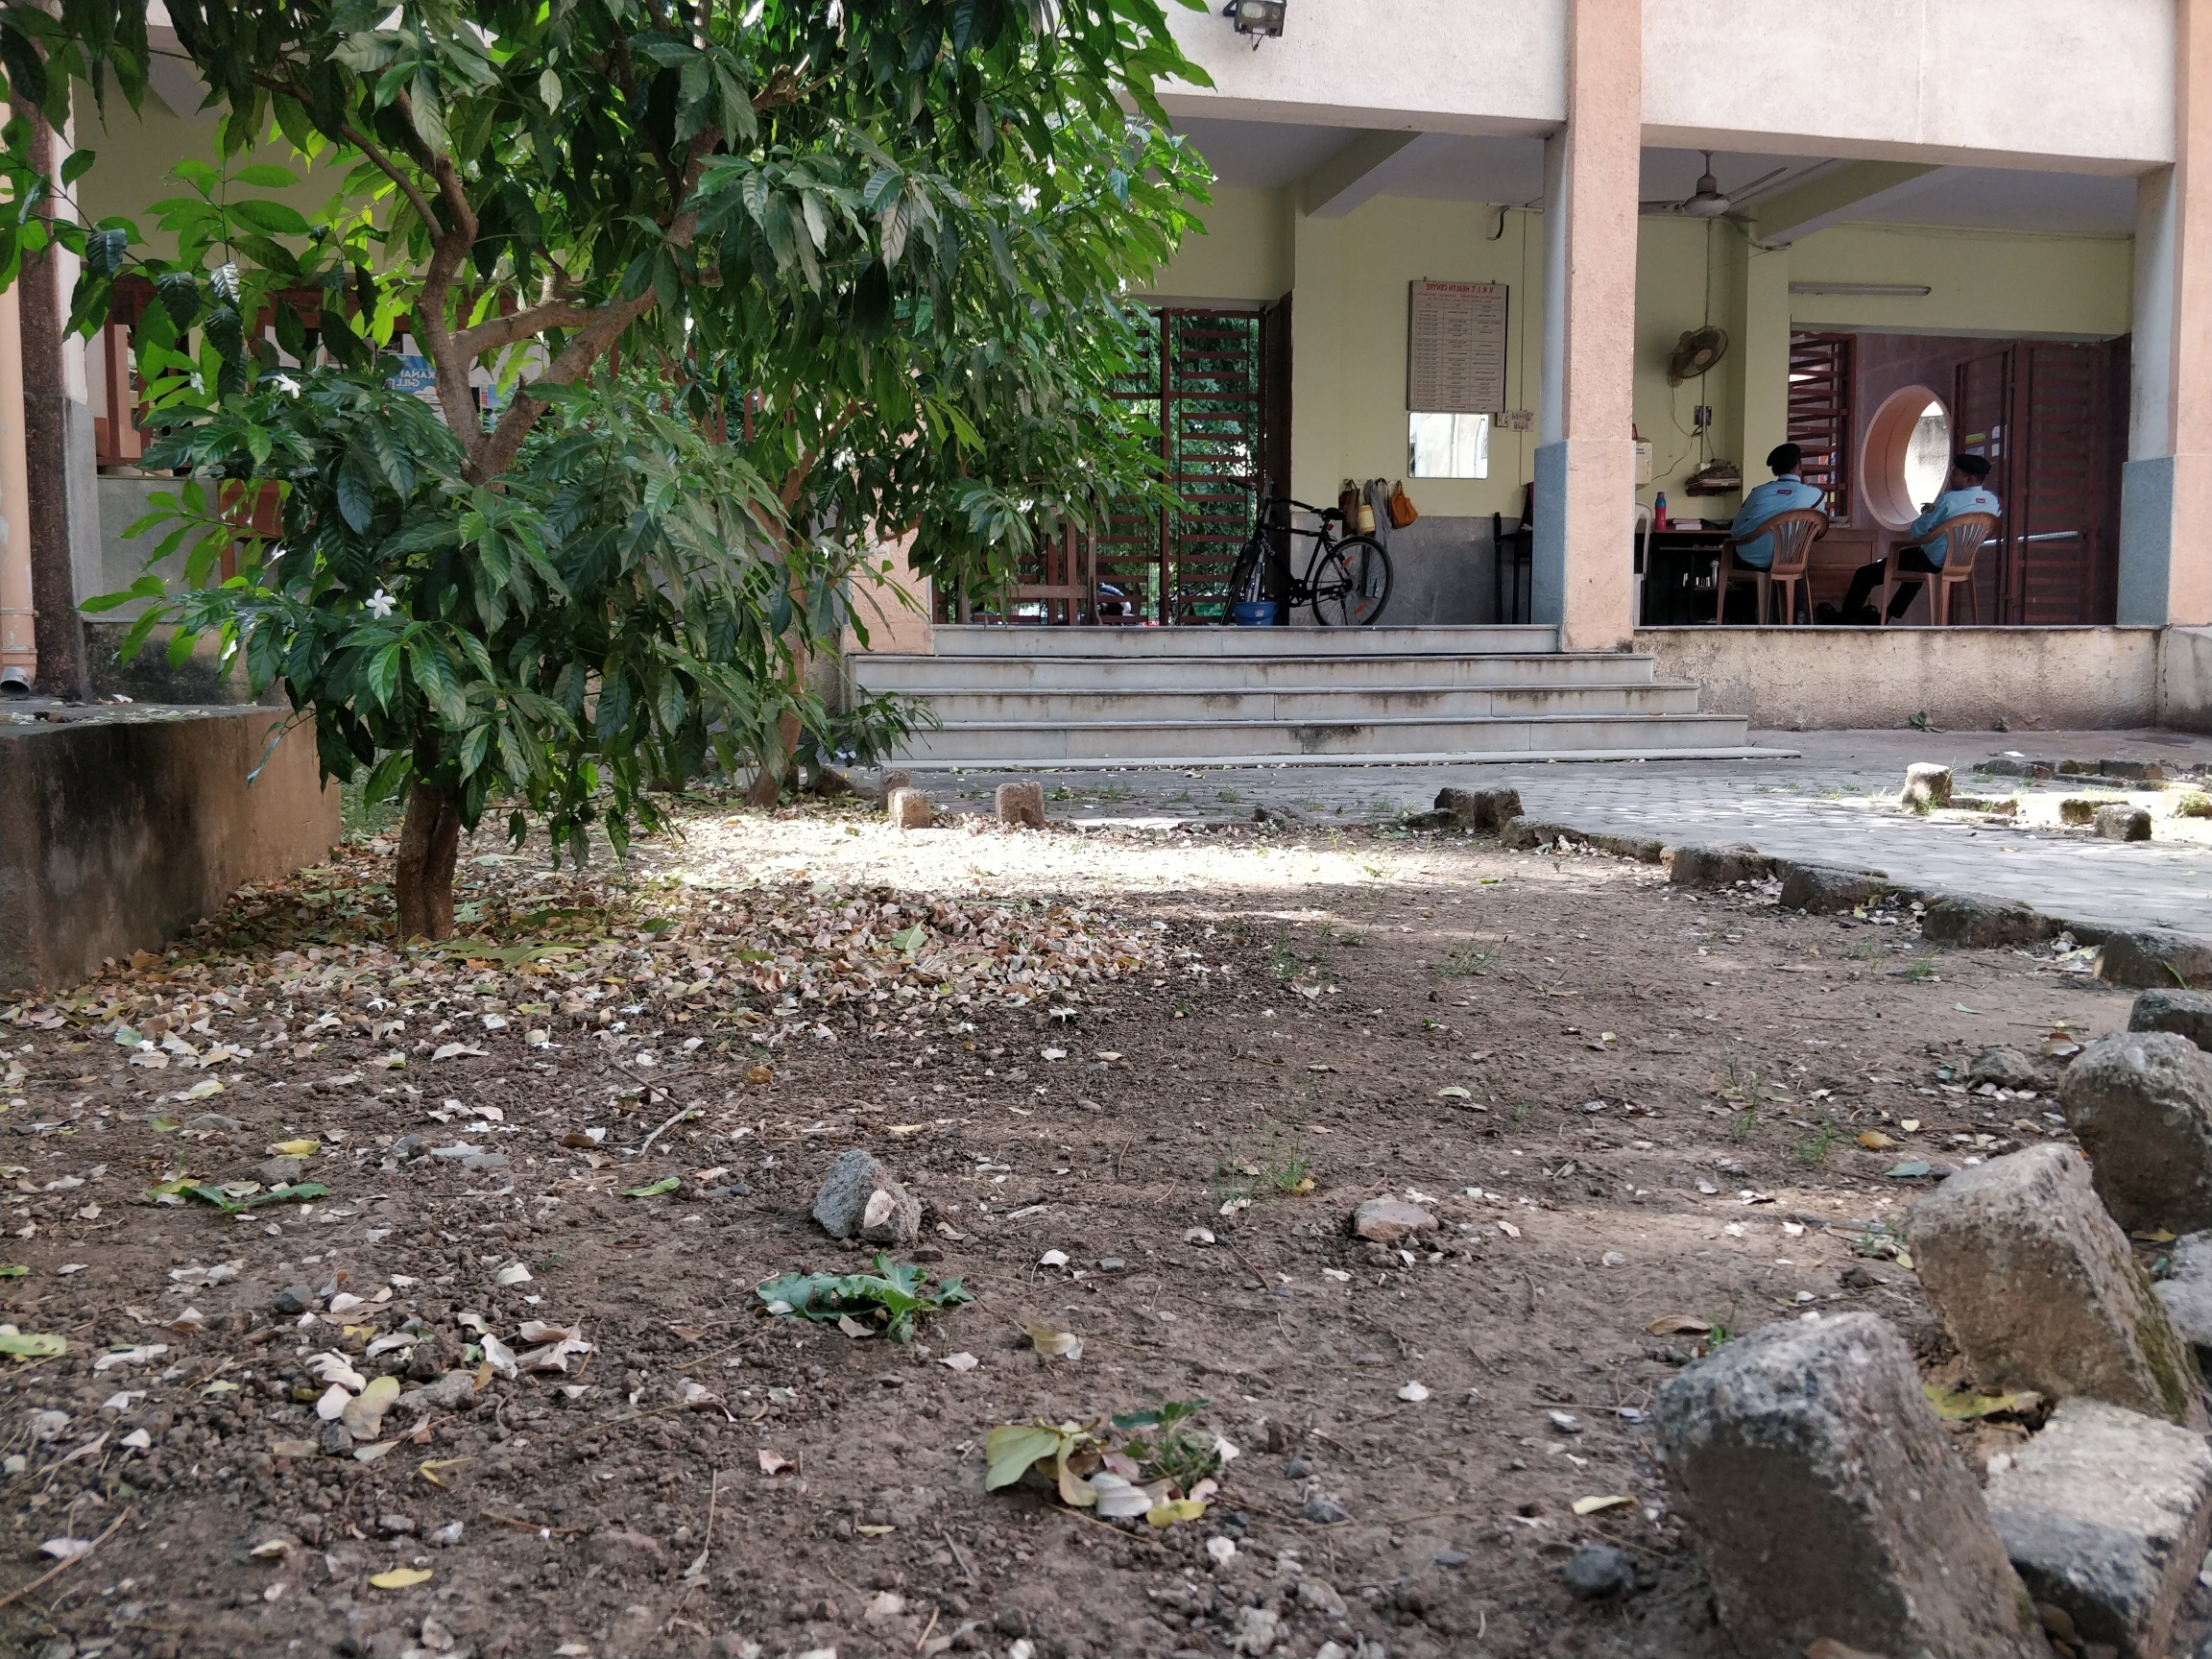stairs_up: (838, 615, 1766, 765)
